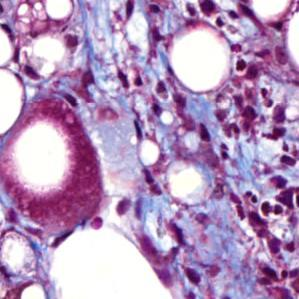steatosis: (165, 26, 235, 94)
